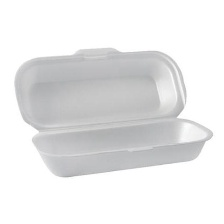foam_box: (7, 40, 217, 182)
